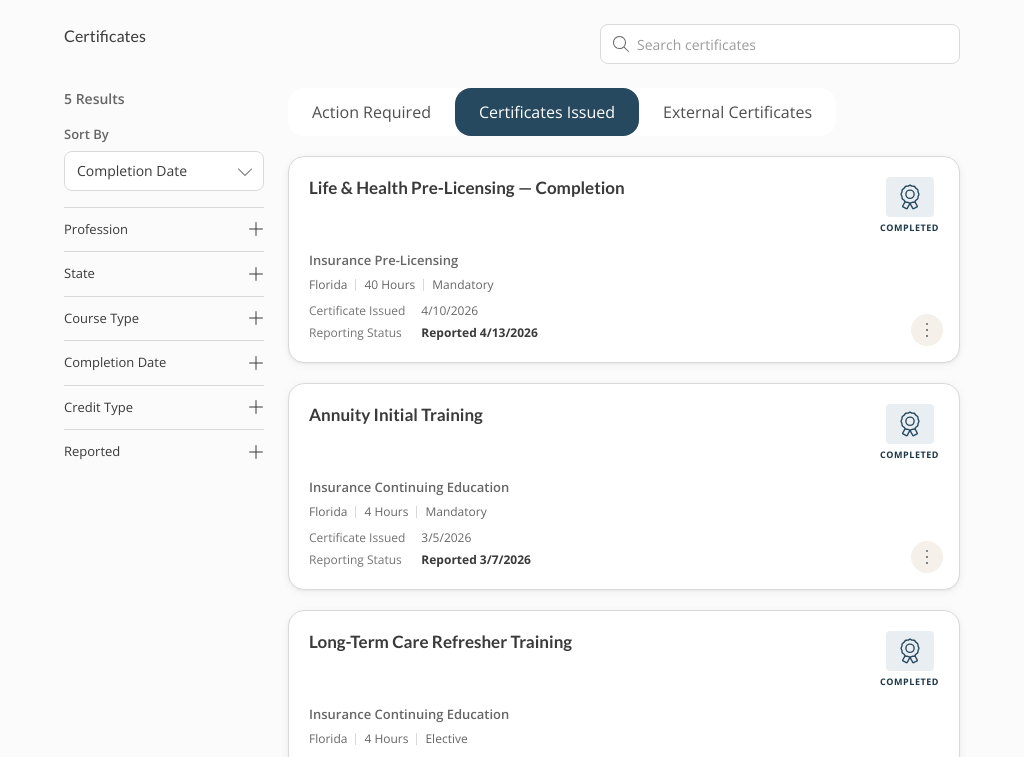
CertificatesPage › renders the External Certificates tab with the add CTA, note, and external cards
Click the tab "External Certificates".
click(738, 112)  # box [639, 88, 836, 136]
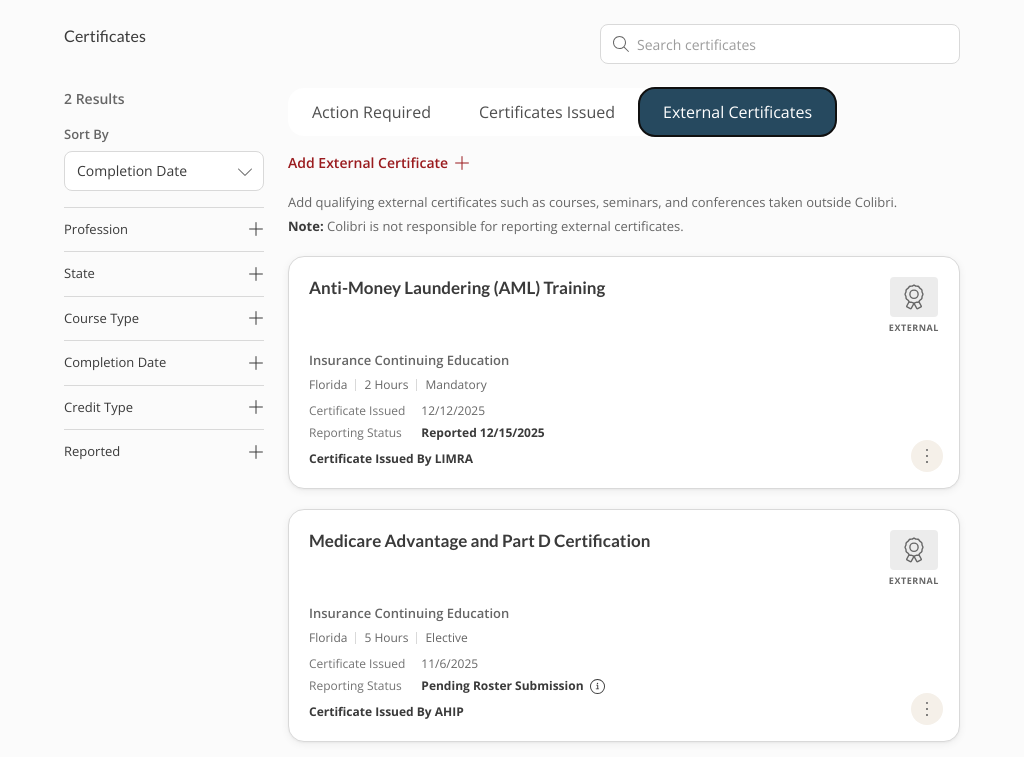
Check: the button "Add External Certificate" is shown, box [288, 152, 470, 173]
Check: the text "not responsible for reporting external certificates" is shown, box [324, 216, 684, 234]
Check: the text "Certificate Issued By LIMRA" is shown, box [309, 450, 473, 467]
